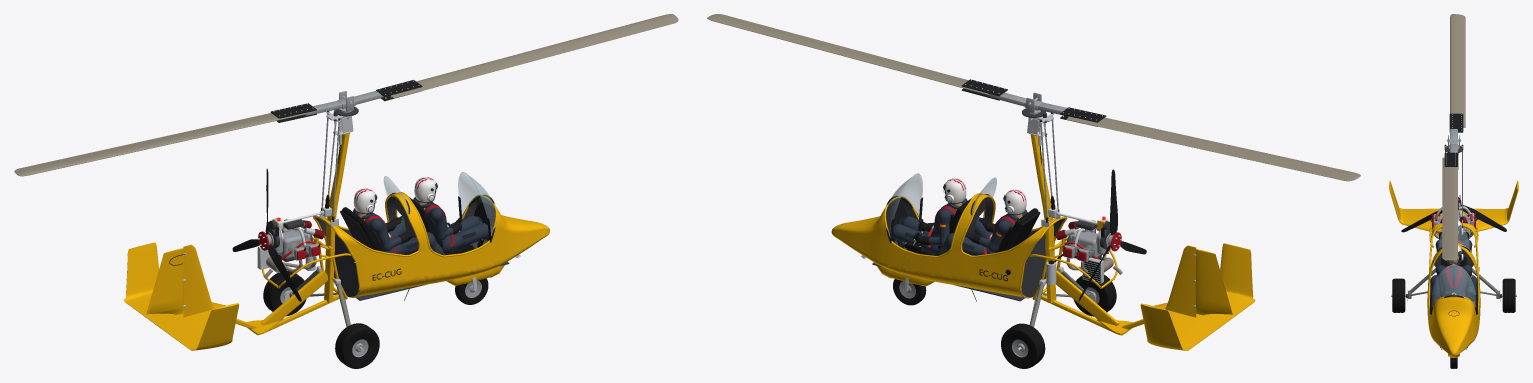
Rendered from ela07.glb.
3 views of the same model, side by side, from view 1: azimuth 30°, elevation 25°; view 2: azimuth 150°, elevation 25°; view 3: azimuth 270°, elevation 25° (orthographic). The views are drawn at different scales.
Visible parts, largest first — view 1: airframe, rotor, pilot_rear, rudder, wheel_R, windscreen, pilot_front, wheel_L, prop, nose_wheel, pilot_front_legR_up; view 2: airframe, rotor, pilot_rear, rudder, wheel_L, windscreen, pilot_front, prop, wheel_R, nose_wheel; view 3: airframe, rotor, windscreen, pilot_front, pilot_rear, wheel_L, wheel_R, prop, pilot_front_armL_up, pilot_front_armR_up.
Boxes of the visible parts, <box> form: airframe: <box>124,111,549,350</box>; rotor: <box>14,14,678,176</box>; pilot_rear: <box>353,188,445,255</box>; rudder: <box>146,248,185,314</box>; wheel_R: <box>335,323,379,368</box>; windscreen: <box>384,172,494,235</box>; pilot_front: <box>414,177,454,253</box>; wheel_L: <box>263,270,306,316</box>; prop: <box>232,168,301,301</box>; nose_wheel: <box>455,277,488,304</box>; pilot_front_legR_up: <box>451,223,488,250</box>; airframe: <box>831,113,1255,351</box>; rotor: <box>707,14,1360,181</box>; pilot_rear: <box>935,189,1027,255</box>; rudder: <box>1193,249,1232,315</box>; wheel_L: <box>1001,323,1045,368</box>; windscreen: <box>886,173,996,236</box>; pilot_front: <box>928,178,966,254</box>; prop: <box>1078,169,1146,301</box>; wheel_R: <box>1073,274,1116,316</box>; nose_wheel: <box>893,277,926,305</box>; airframe: <box>1389,144,1518,357</box>; rotor: <box>1442,14,1465,260</box>; windscreen: <box>1432,225,1475,307</box>; pilot_front: <box>1440,245,1467,297</box>; pilot_rear: <box>1430,220,1477,304</box>; wheel_L: <box>1502,278,1515,312</box>; wheel_R: <box>1392,278,1405,312</box>; prop: <box>1401,199,1506,232</box>; pilot_front_armL_up: <box>1463,265,1474,289</box>; pilot_front_armR_up: <box>1435,265,1444,293</box>.
Bounding box in the file's own units: 8.23 × 2.87 × 1.84.
